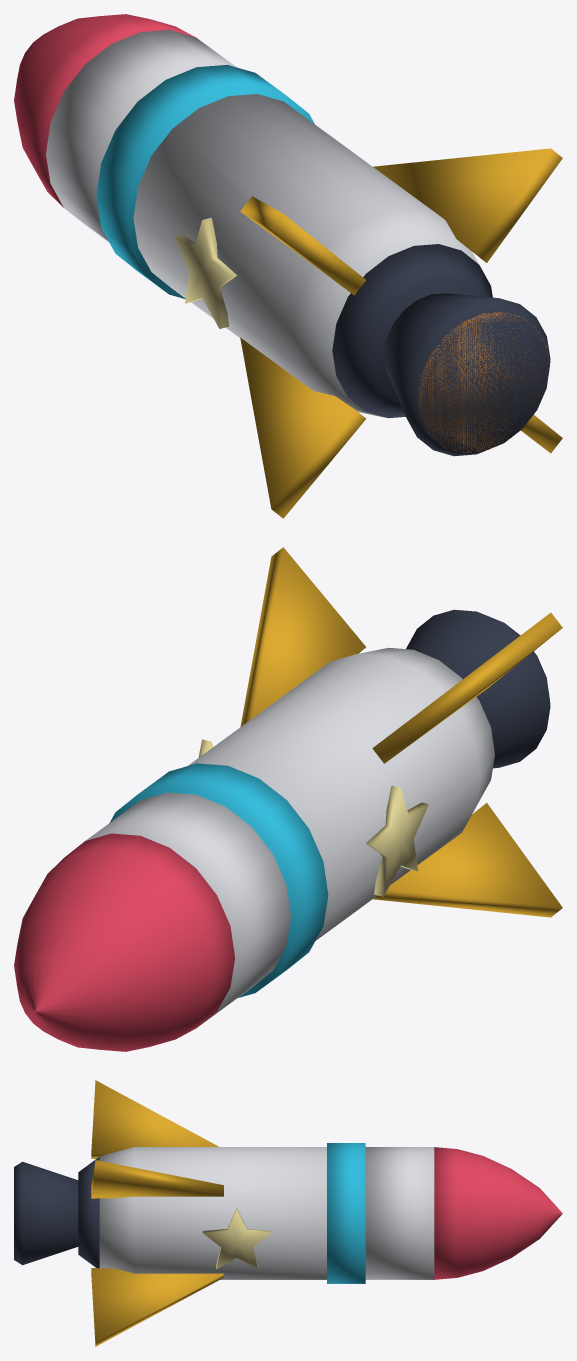
Rendered from lumo_star_rocket.glb.
3 views of the same model, one above another, from view 1: azimuth 30°, elevation 25°; view 2: azimuth 150°, elevation 25°; view 3: azimuth 270°, elevation 25° (orthographic). The views are drawn at different scales.
Visible parts, largest first — view 1: LumoStarRocket; view 2: LumoStarRocket; view 3: LumoStarRocket.
Boxes of the visible parts, x1,y1,x2,y2 form: LumoStarRocket: [14, 14, 562, 518]; LumoStarRocket: [14, 547, 562, 1051]; LumoStarRocket: [14, 1080, 562, 1346].
Size of the model in its own units: 0.2404 by 0.2404 by 0.64.
